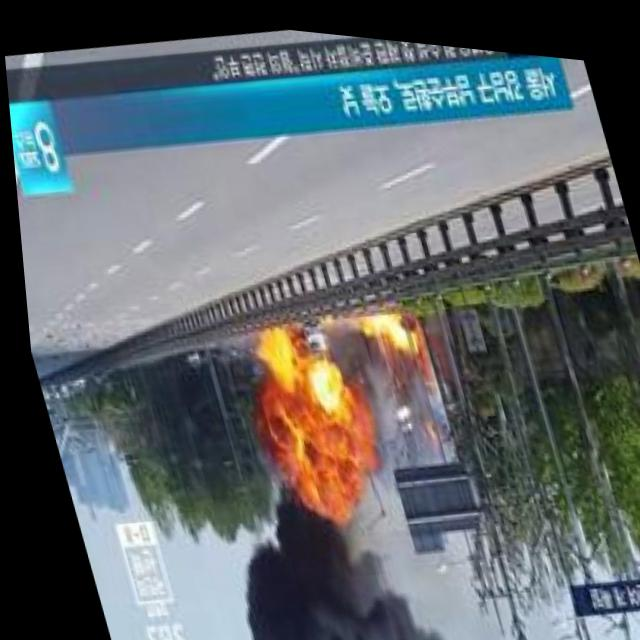Fire: (234, 341, 377, 485), (269, 457, 370, 517), (354, 295, 418, 350), (240, 316, 298, 362)
